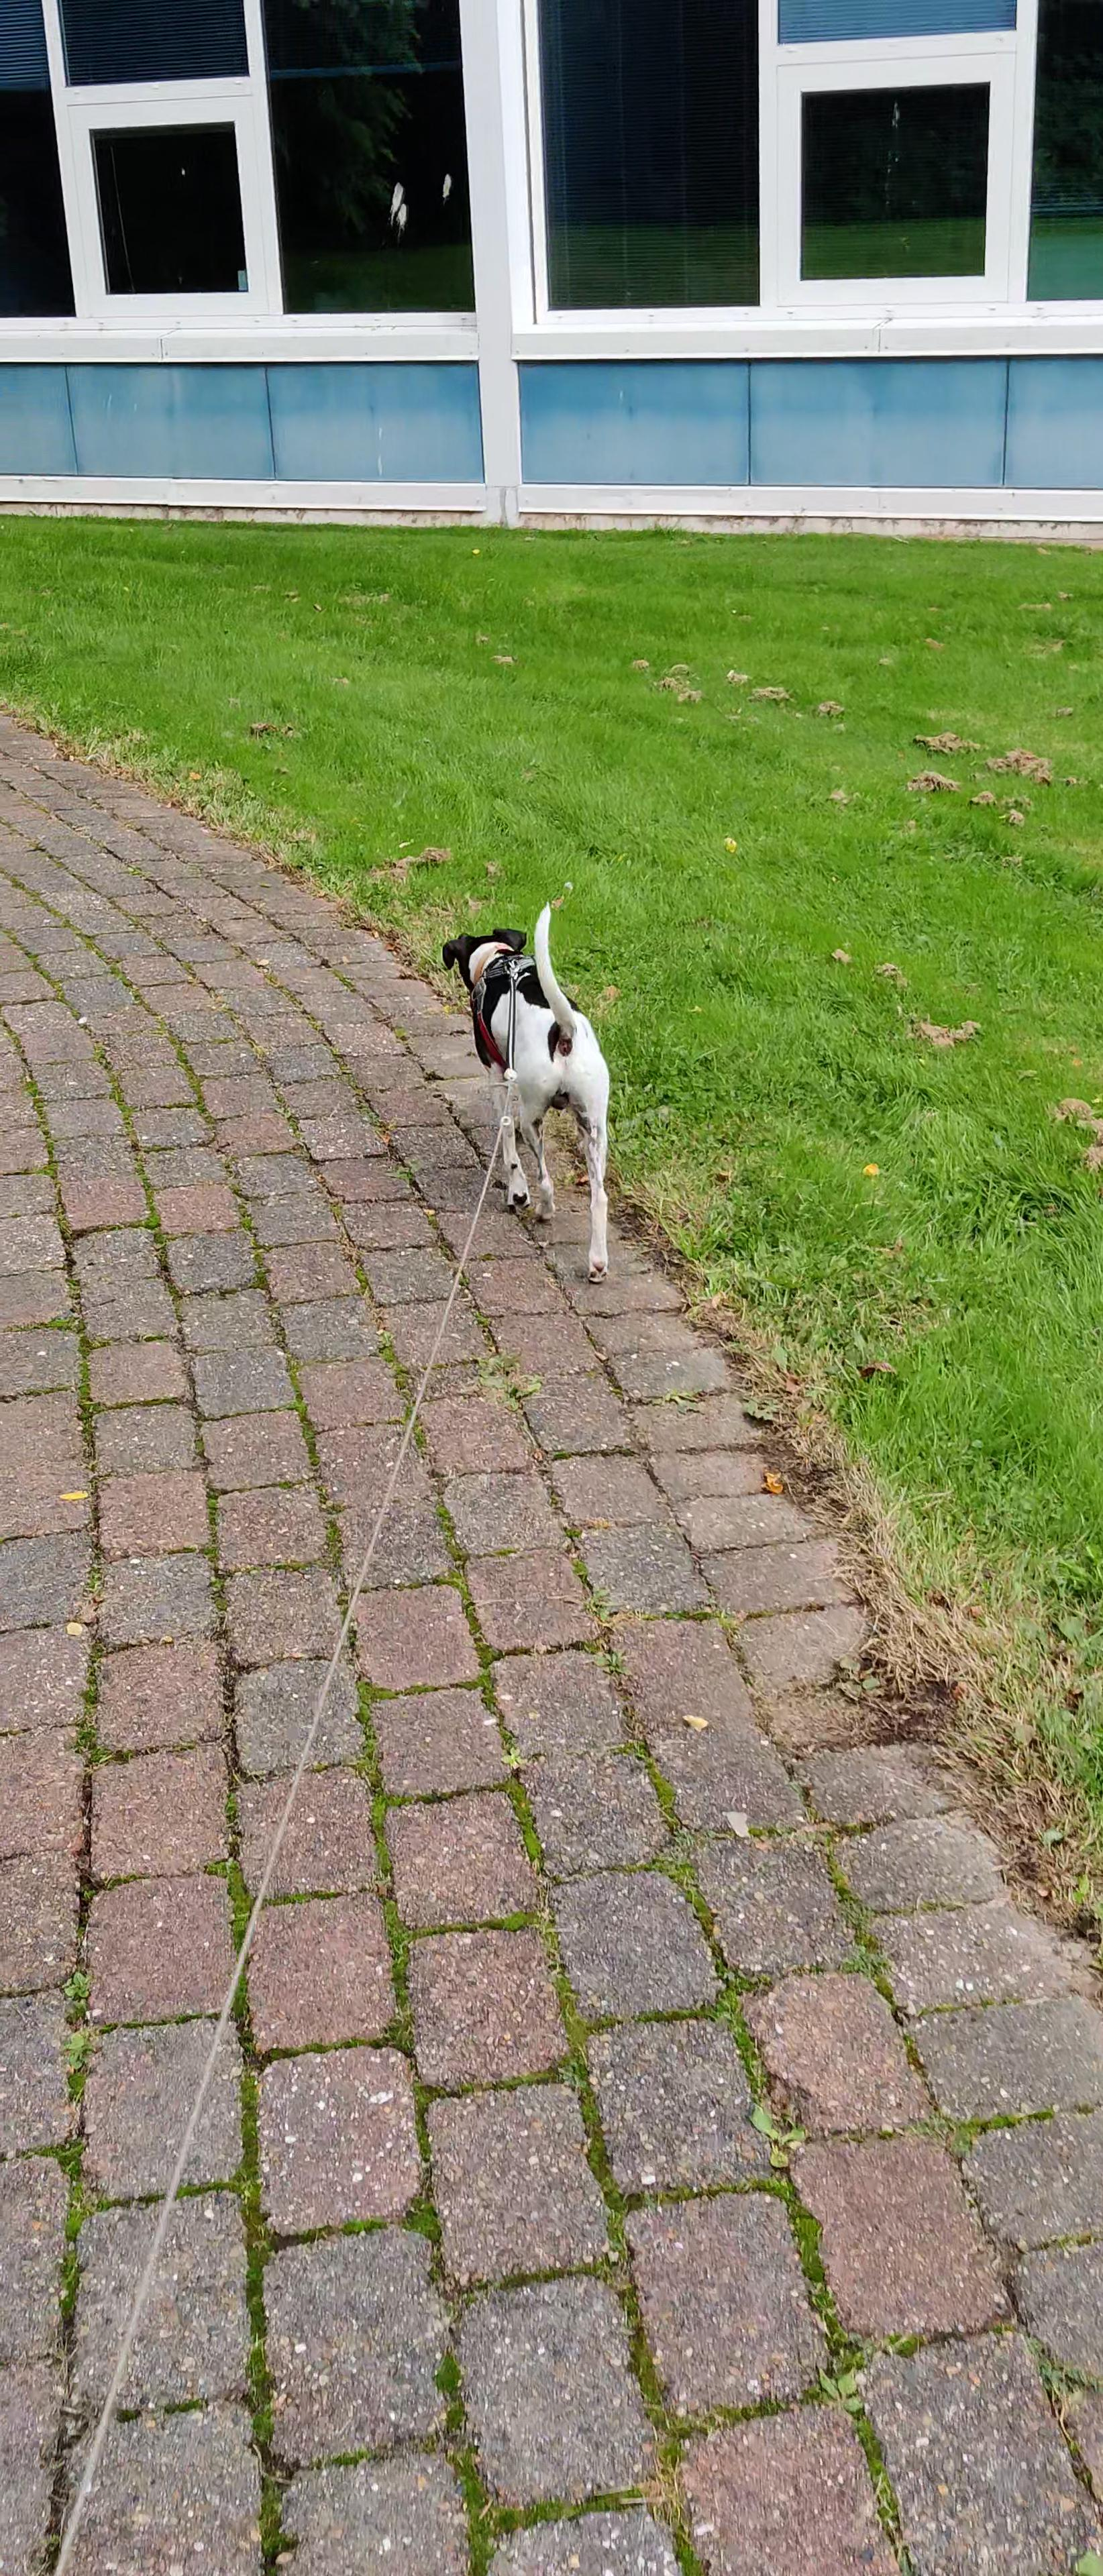Dog: (418, 881, 639, 1309)
